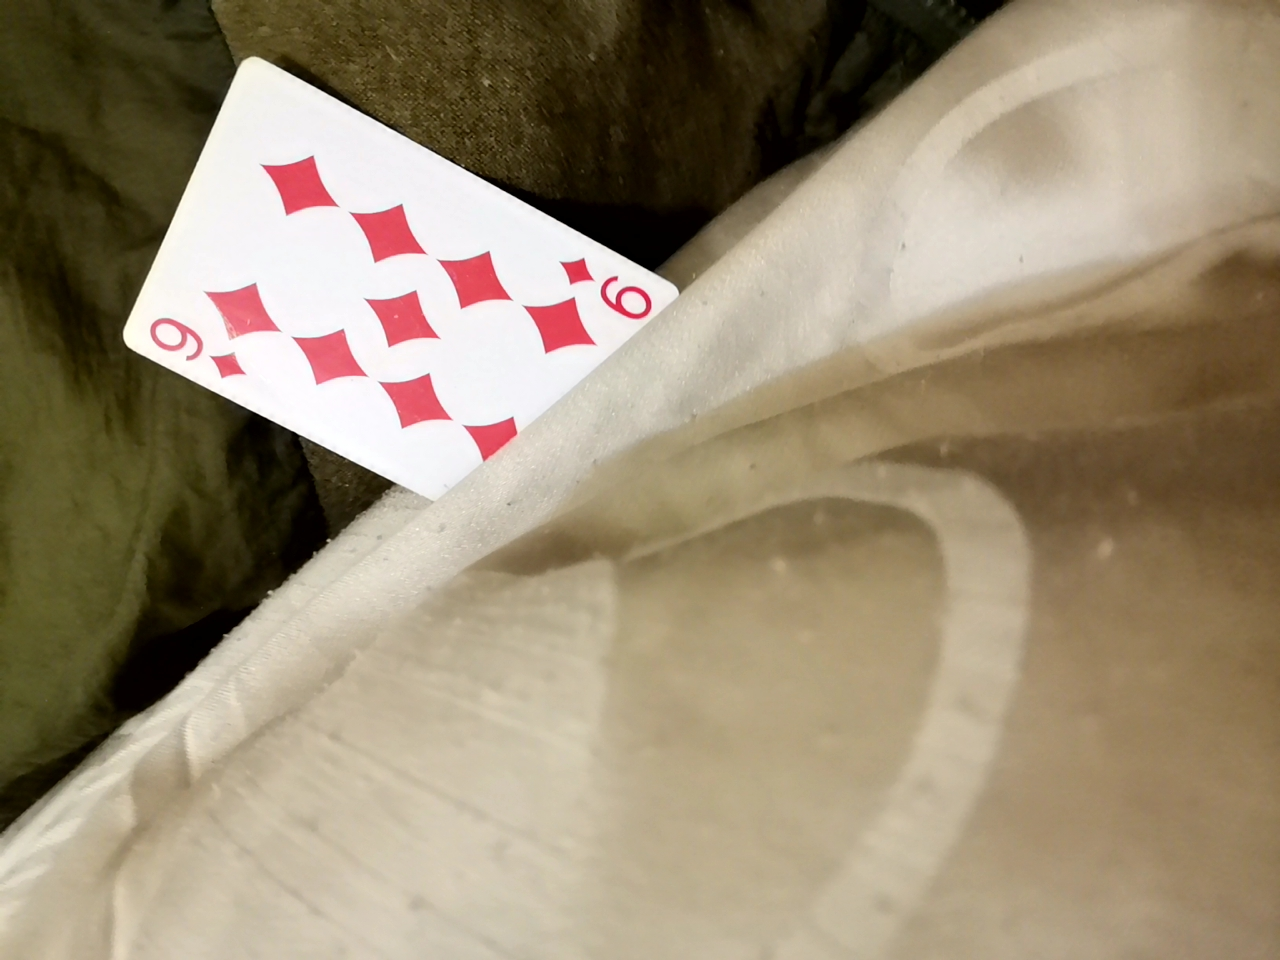fk 9: (112, 87, 690, 555)
